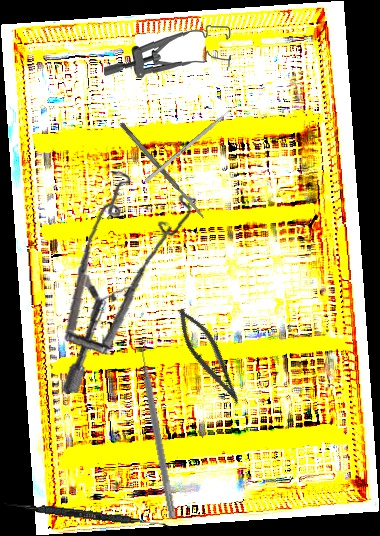Micro Scissor: (166, 302, 254, 411)
Pusher: (144, 100, 241, 184)
Spatula Surgical: (118, 121, 207, 221), (135, 343, 185, 519), (2, 501, 174, 529)
Speculum: (43, 163, 214, 395), (104, 21, 232, 82)
